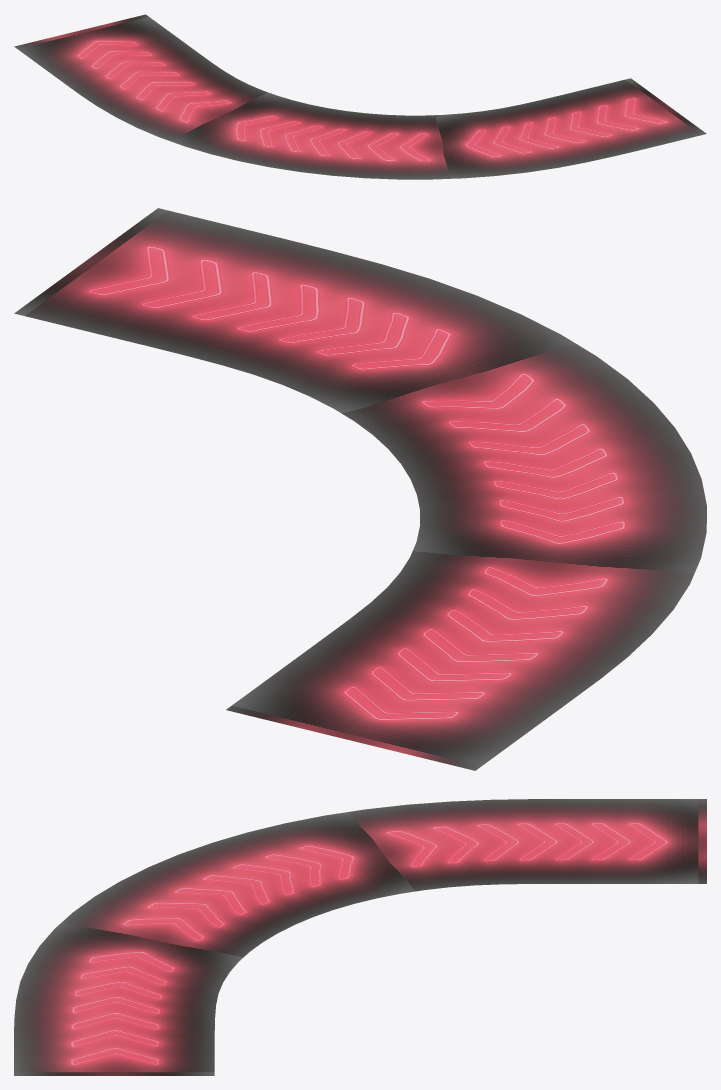
Rendered from Arrow Mesh.fbx.
3 views of the same model, one above another, from view 1: azimuth 30°, elevation 25°; view 2: azimuth 150°, elevation 25°; view 3: azimuth 270°, elevation 25° (orthographic). The views are drawn at different scales.
Visible parts, largest first — view 1: pPlane1; view 2: pPlane1; view 3: pPlane1.
Boxes of the visible parts, x1,y1,x2,y2 form: pPlane1: [14, 14, 706, 179]; pPlane1: [14, 208, 706, 770]; pPlane1: [14, 799, 706, 1075].
Size of the model in its own units: 110 by 3.92e-14 by 116.
Materials: 1 (1 with a texture image).
